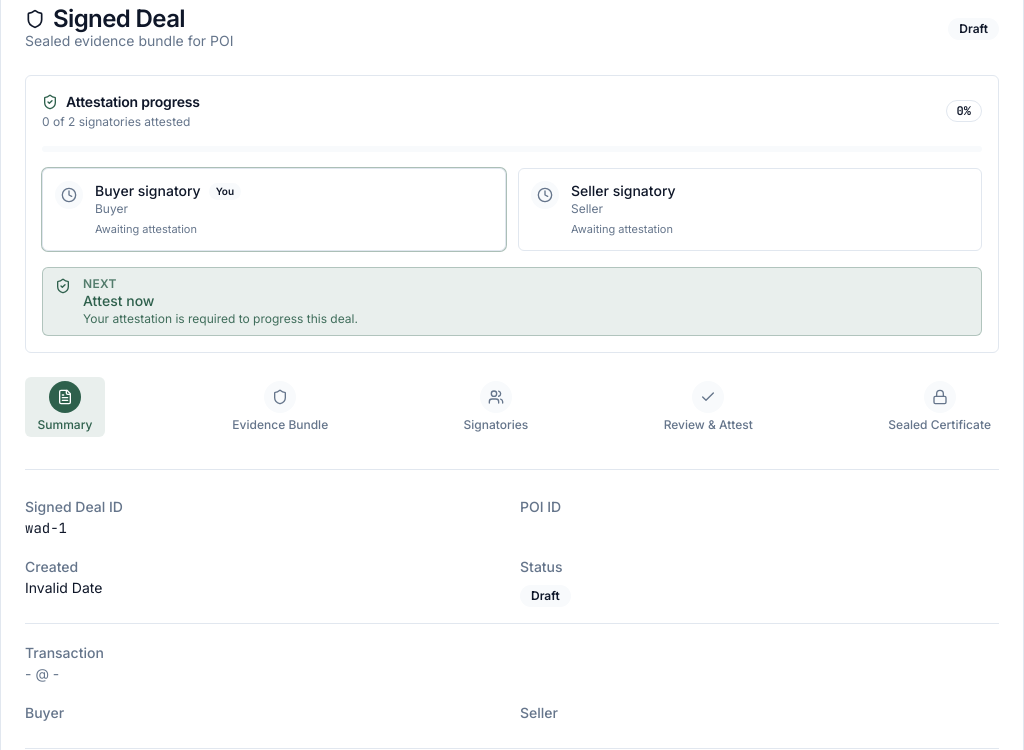
Test case: WadStepper attestation error hints › shows auth-required hint for expired session
Step 1. Click the button "Review & Attest" → (708, 407), box top-left (656, 377), bottom-right (761, 437)
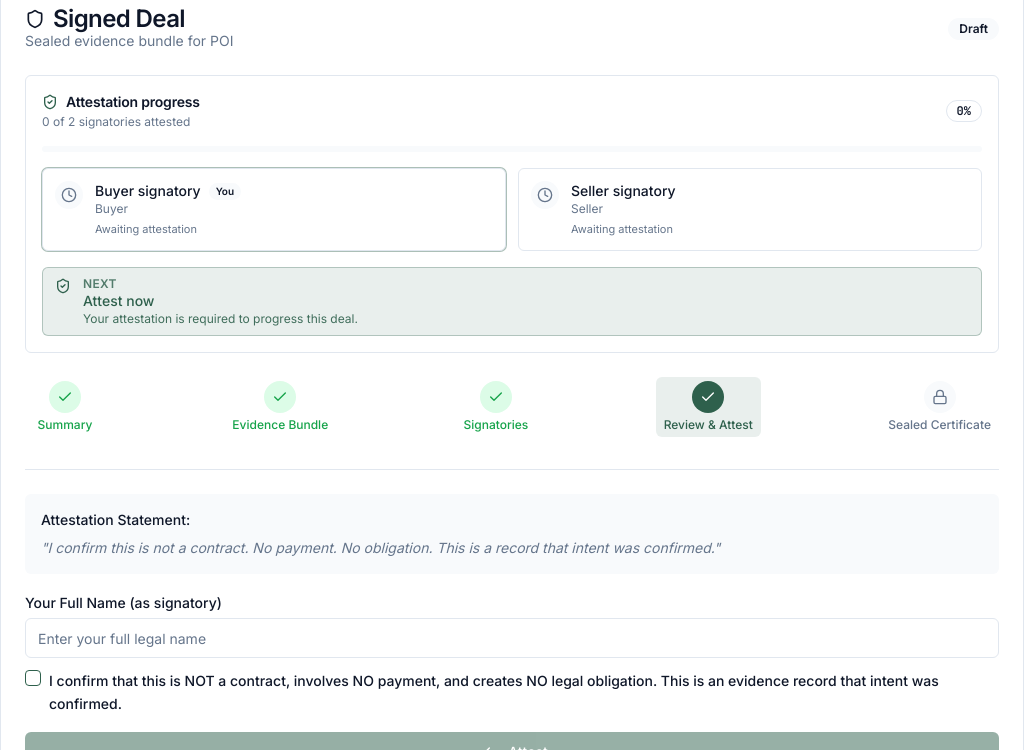
Step 2. Type "Jane Doe" into the field labelled "Your Full Name (as signatory)" → (512, 638), box top-left (25, 618), bottom-right (999, 658)
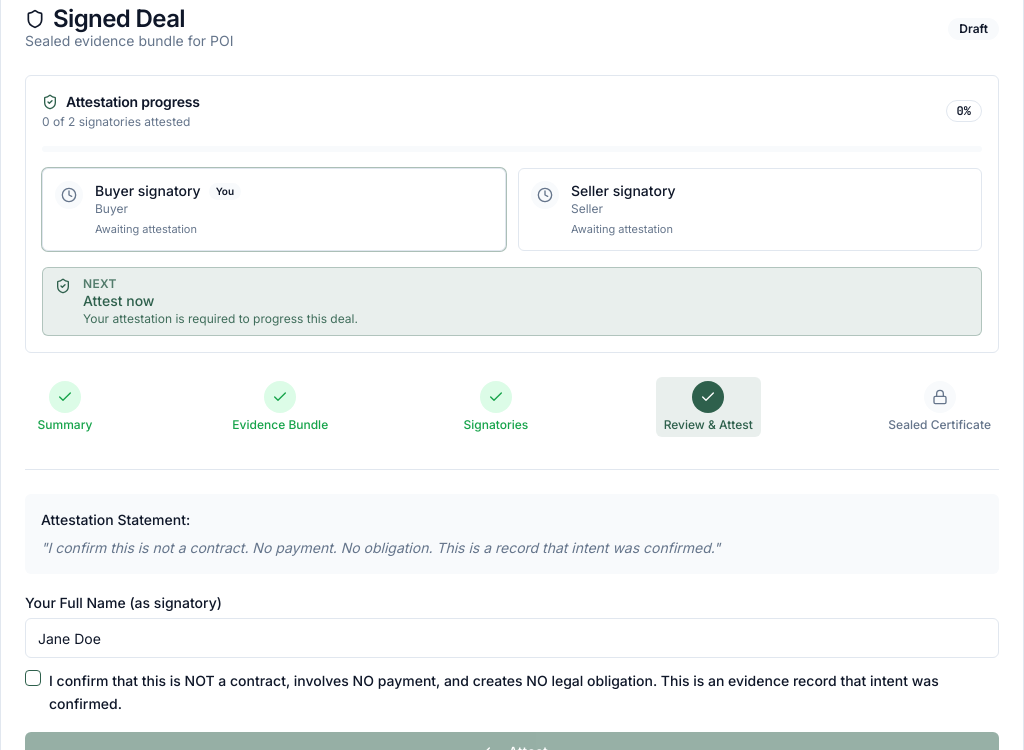
Step 3. Click the checkbox named "i confirm that this is not a contract" → (33, 678), box top-left (25, 670), bottom-right (41, 686)
(page scrolled)
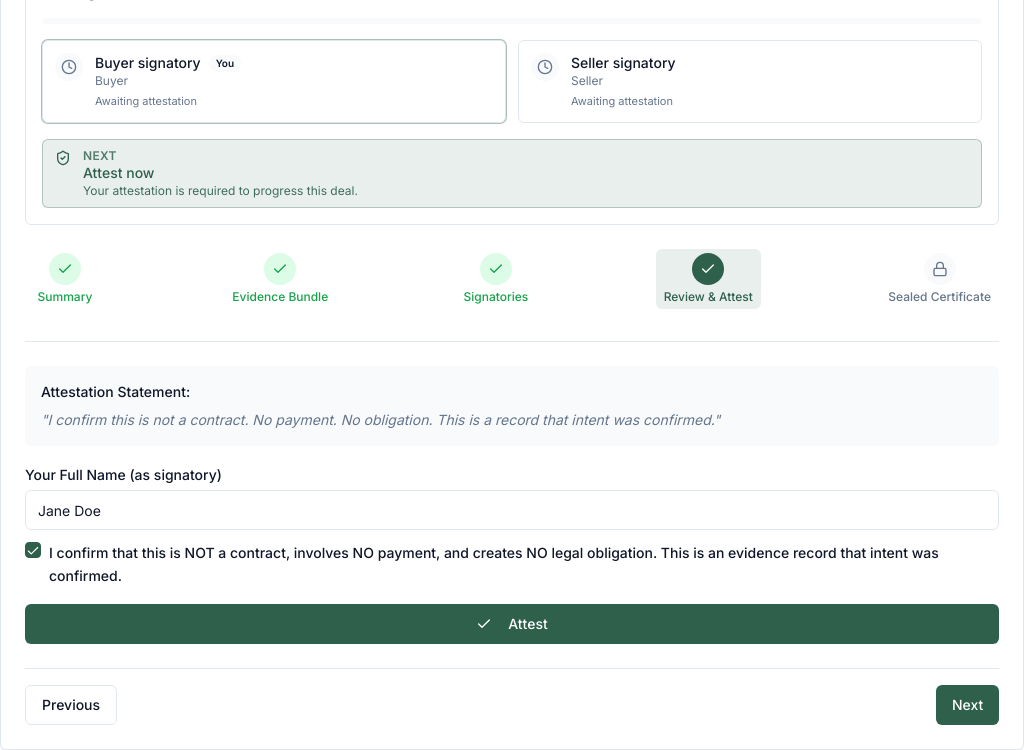
Step 4. Click the button "Attest" → (512, 624), box top-left (25, 604), bottom-right (999, 644)
(page scrolled)
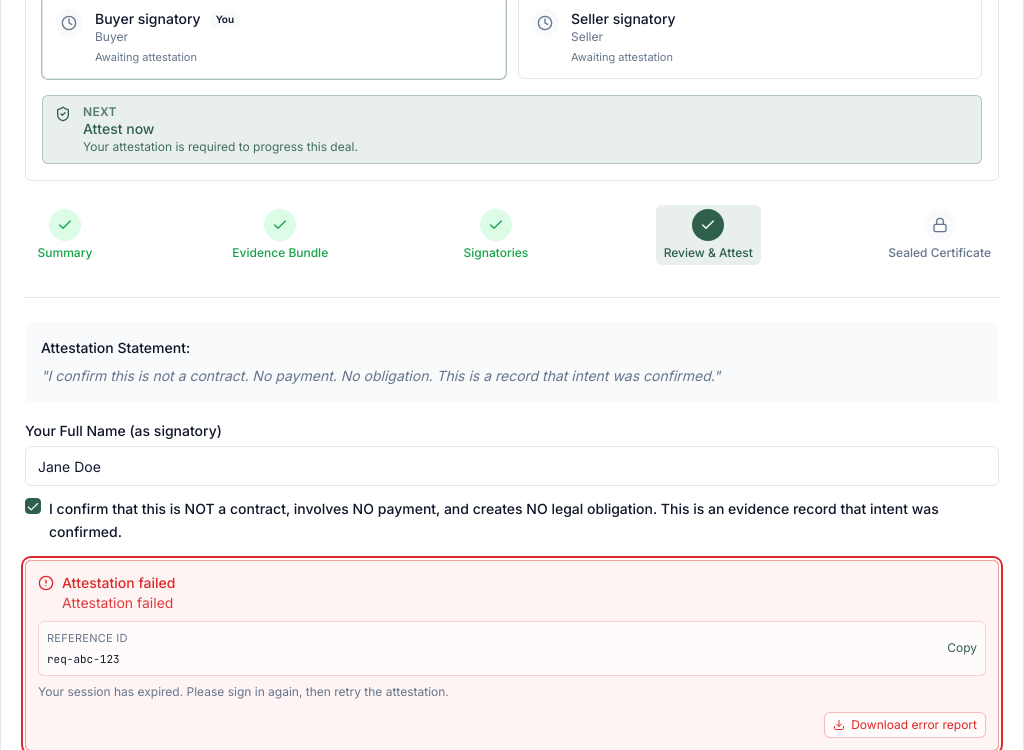
Now the text with test id "attest-error-hint" shows "sign in again", box top-left (38, 684), bottom-right (449, 698)
